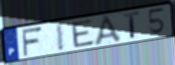5: (146, 7, 167, 36)
A: (93, 14, 125, 48)
E: (70, 18, 96, 49)
F: (20, 25, 44, 58)
I: (54, 21, 66, 53)
T: (123, 11, 141, 40)
